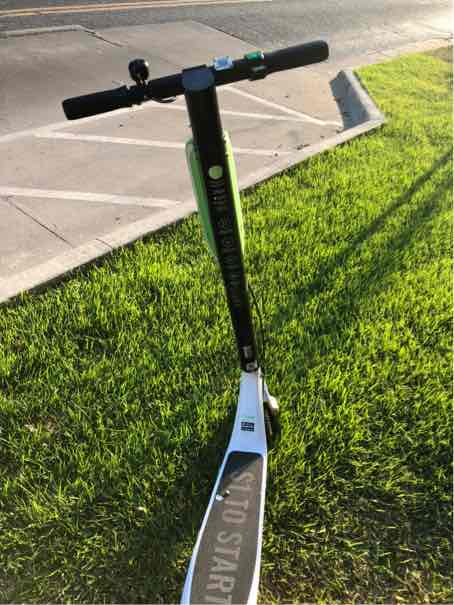scooter: (53, 36, 345, 605)
